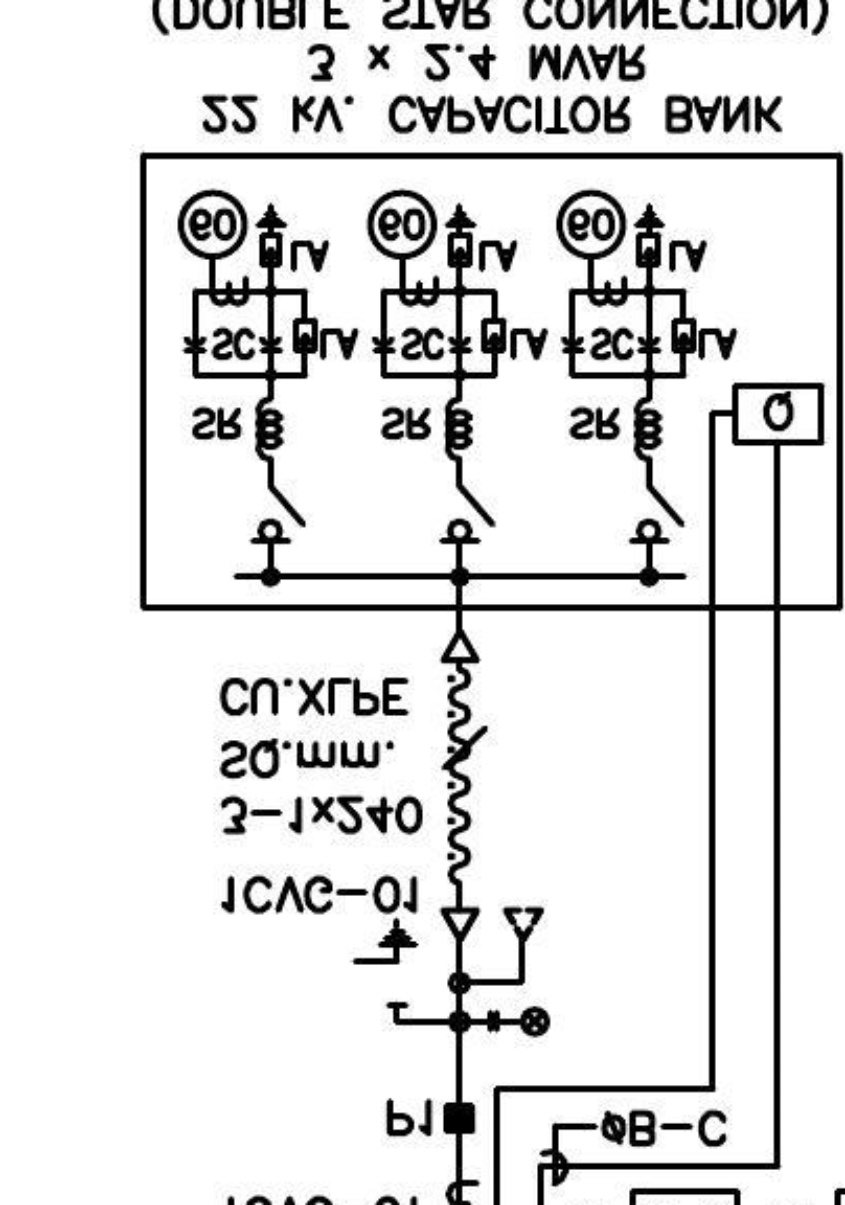22_cap_bank: (138, 150, 845, 613)
22_gs: (349, 916, 420, 1010)
22_ll: (486, 1005, 553, 1039)
Q: (731, 381, 826, 446)
terminator_single: (439, 628, 483, 665)
terminator_w_future: (438, 906, 546, 988)
